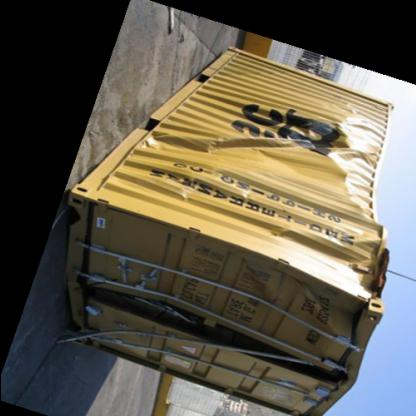Damage: (90, 288, 336, 380), (207, 111, 361, 175)
